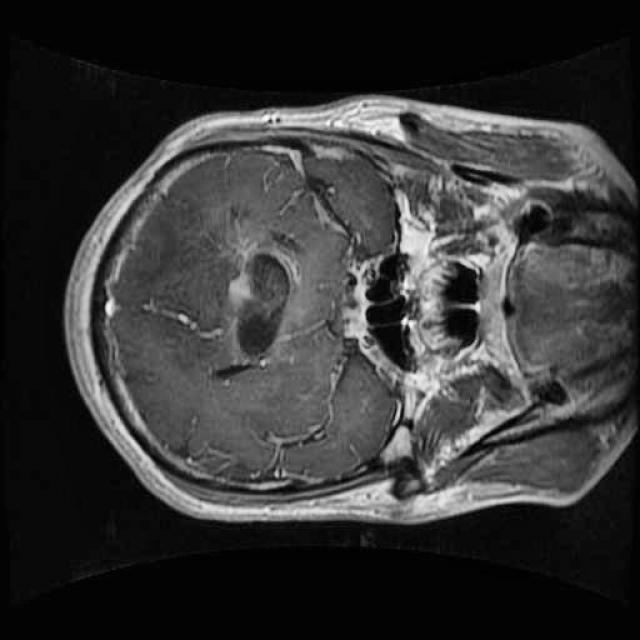Tumor: (208, 210, 308, 396)
